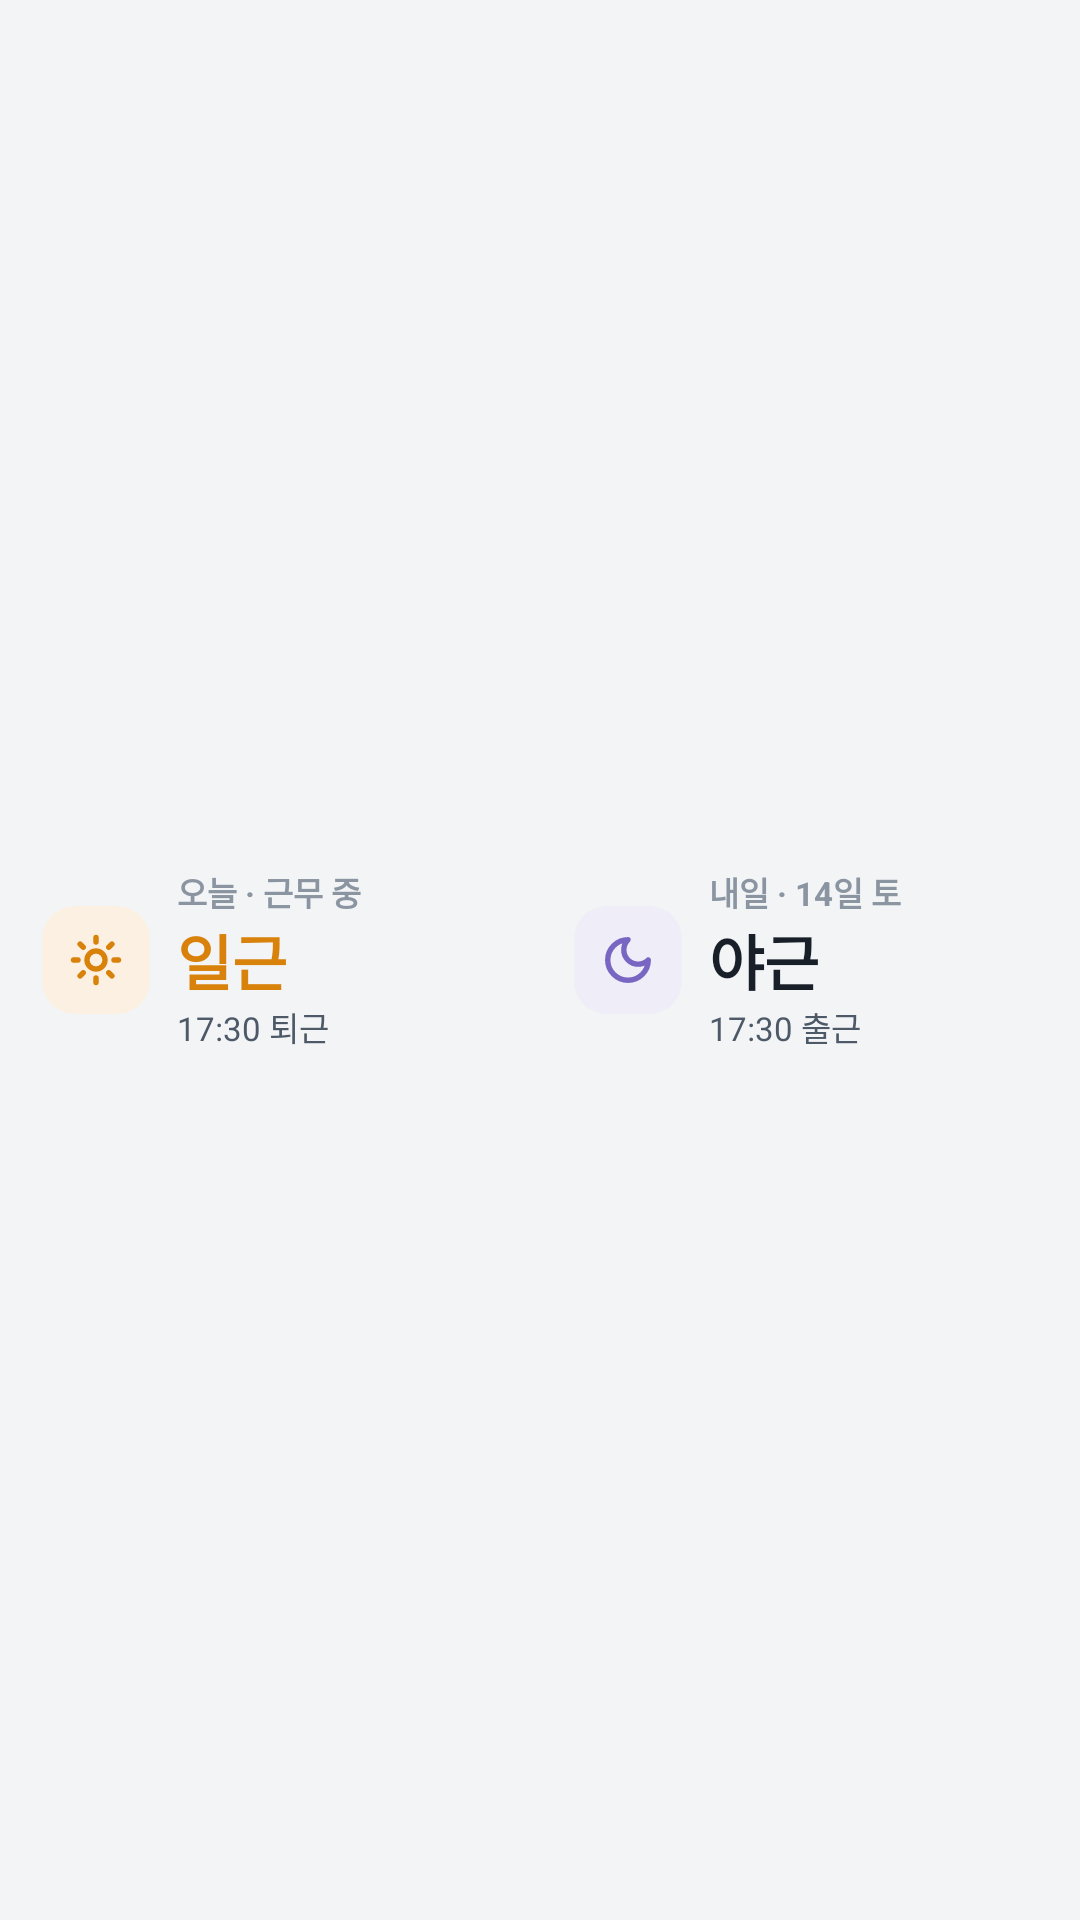

Icon click points for this 1080px x 1920px phone screenshot, format point (x, y):
shift day: point (96, 960)
shift night: point (628, 960)
